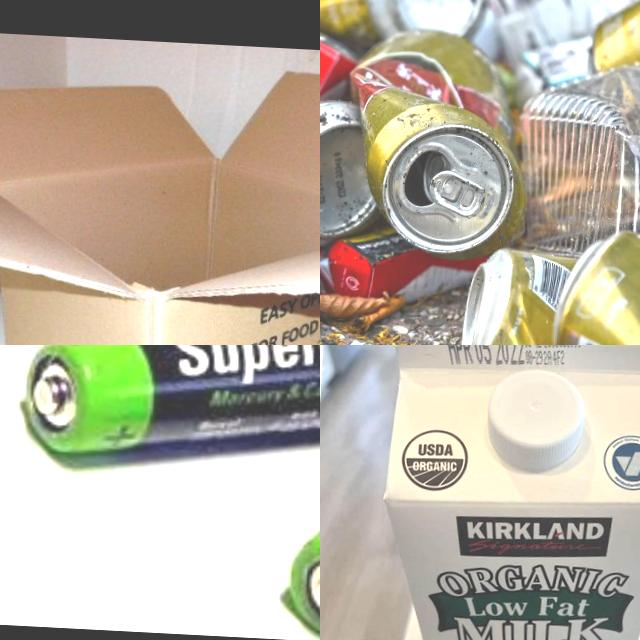aba de lata: (427, 170, 486, 218)
bateria: (17, 345, 320, 470)
caixinha: (367, 345, 640, 640)
lata: (338, 26, 536, 262), (320, 54, 396, 249), (456, 247, 598, 345), (320, 0, 494, 64), (548, 226, 640, 345), (589, 0, 640, 79)
papelão: (0, 45, 320, 345)
tampa plástica: (484, 367, 588, 475)
